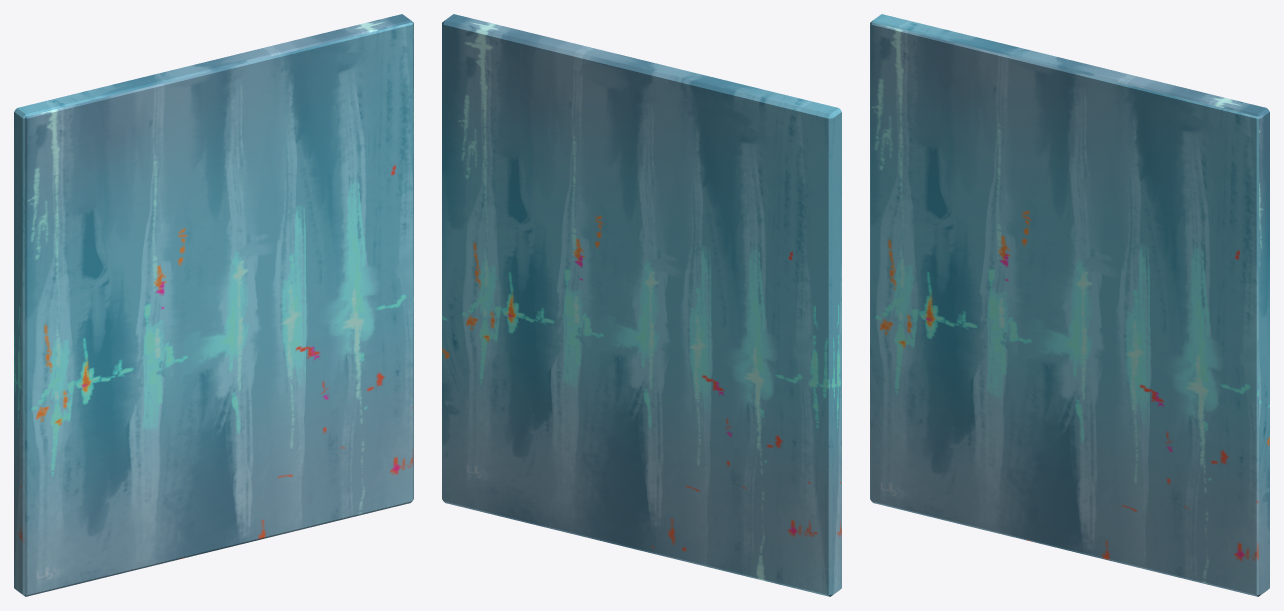
File: Painting_Snow.fbx
3 views of the same model, side by side, from view 1: azimuth 30°, elevation 25°; view 2: azimuth 150°, elevation 25°; view 3: azimuth 330°, elevation 25° (orthographic).
Parts seen in each view (by area): view 1: Painting_Snow; view 2: Painting_Snow; view 3: Painting_Snow.
Boxes of the visible parts, x1=… form: Painting_Snow: x1=14, y1=14, x2=413, y2=596; Painting_Snow: x1=442, y1=14, x2=841, y2=596; Painting_Snow: x1=870, y1=14, x2=1269, y2=596.
Bounding box in the file's own units: 71.8 × 84.64 × 3.82.
